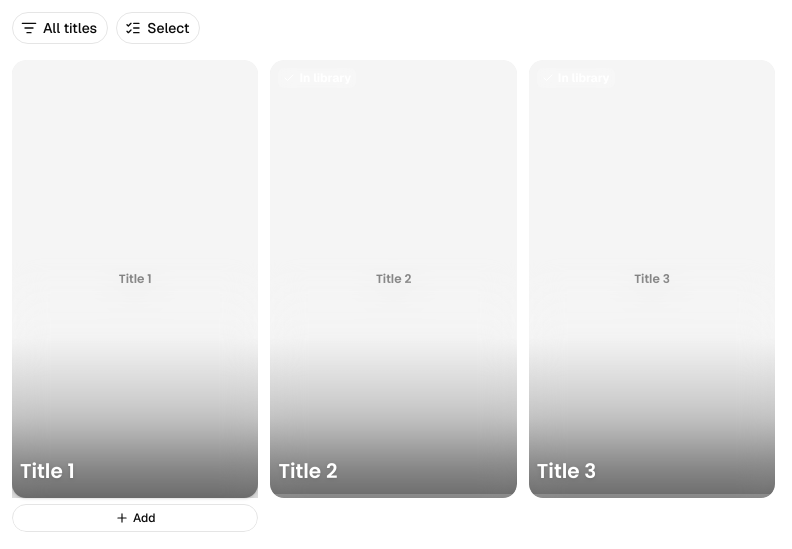
Test: chips are derived from the titles on the page › hides the status submenu when every tracked title shares a status
Click the button with aria-label "Filters:" at (60, 28), box left=12, top=12, right=108, bottom=44
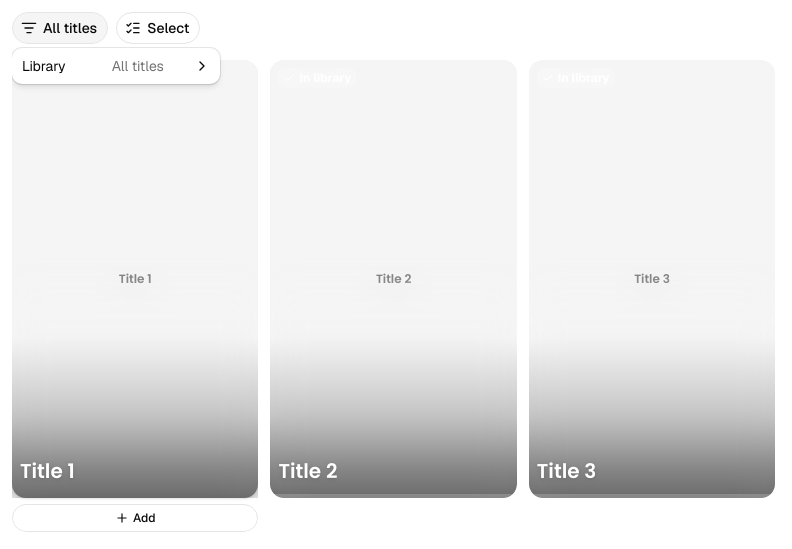
Result: the menu item "Library All titles" is shown at left=16, top=52, right=216, bottom=80
